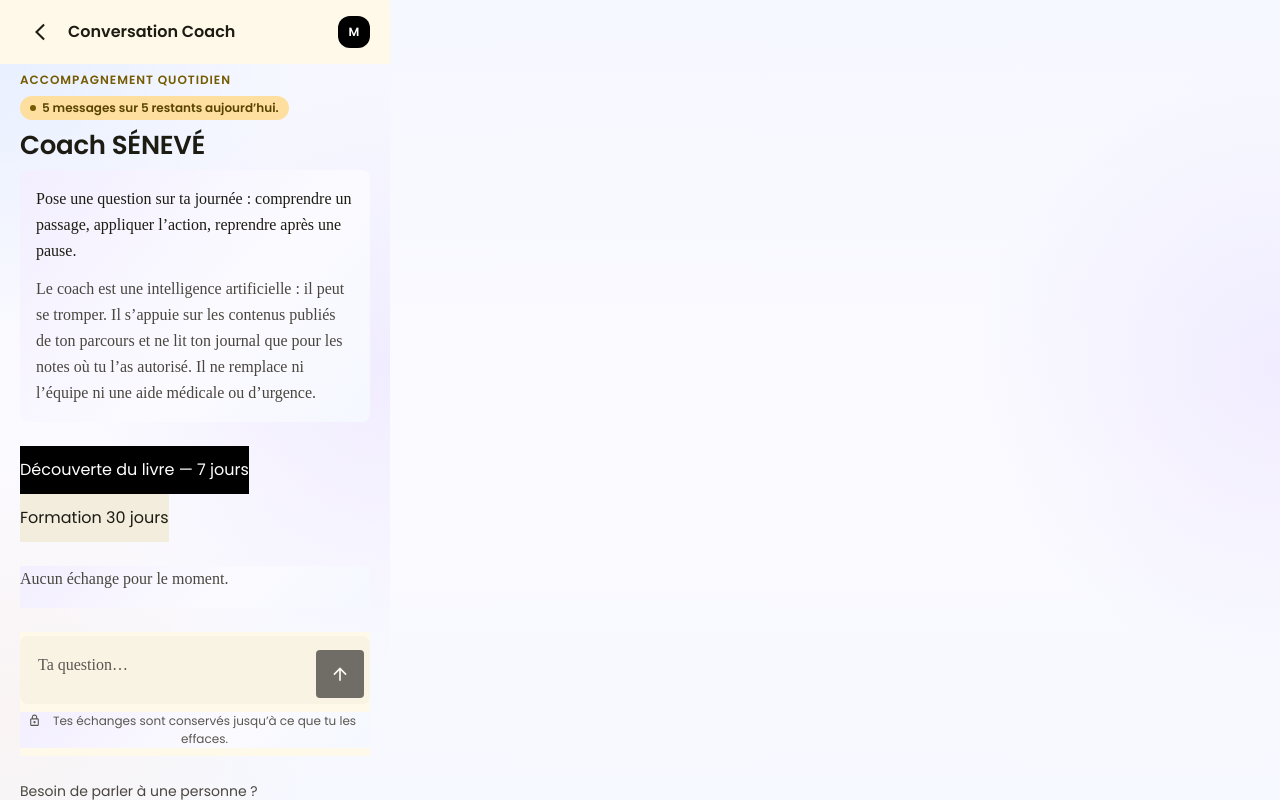
it: Coach : parcours choisi › suit le parcours ouvert depuis l’espace et permet d’en changer
The width and height of the screenshot is (1280, 800).
Type "Une question" into the text box with placeholder "Ta question…" at (167, 666), box [26,642,308,690]
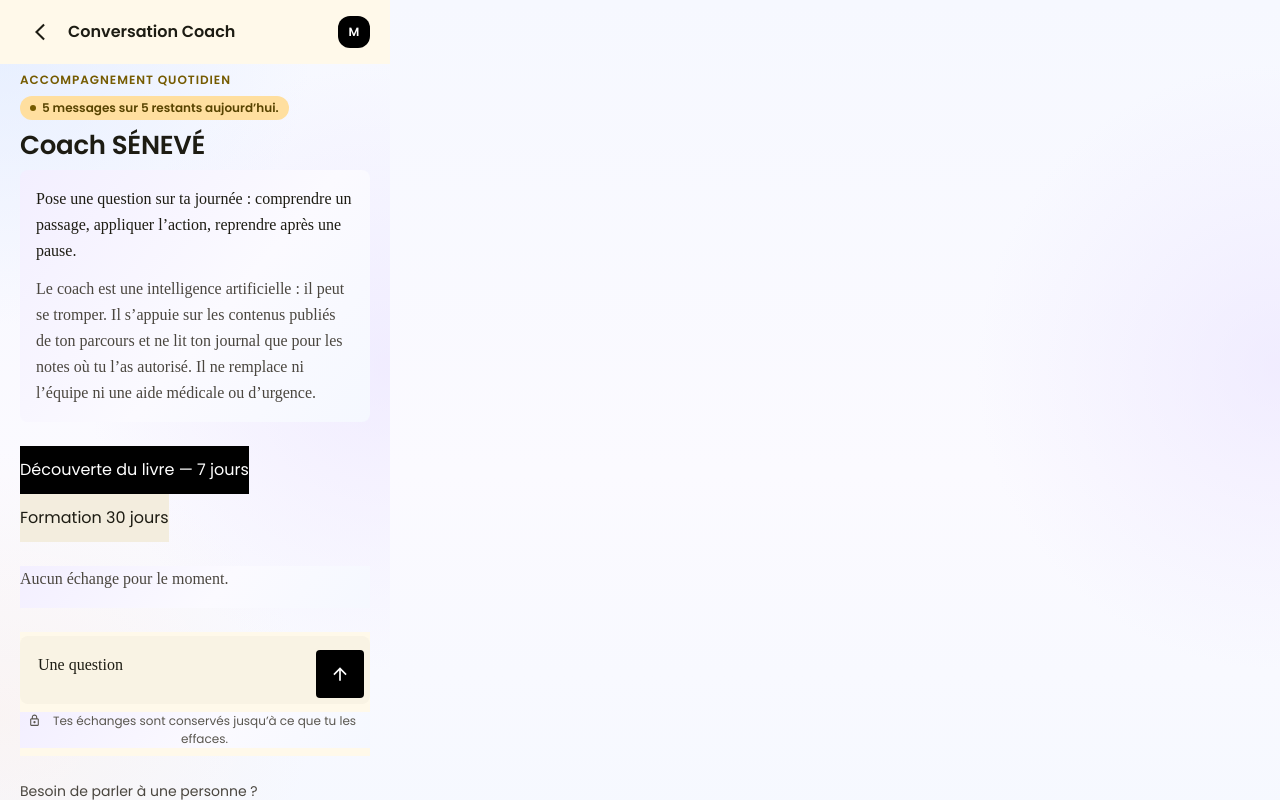
Click the button named "Envoyer" at (340, 674), box [316,650,364,698]
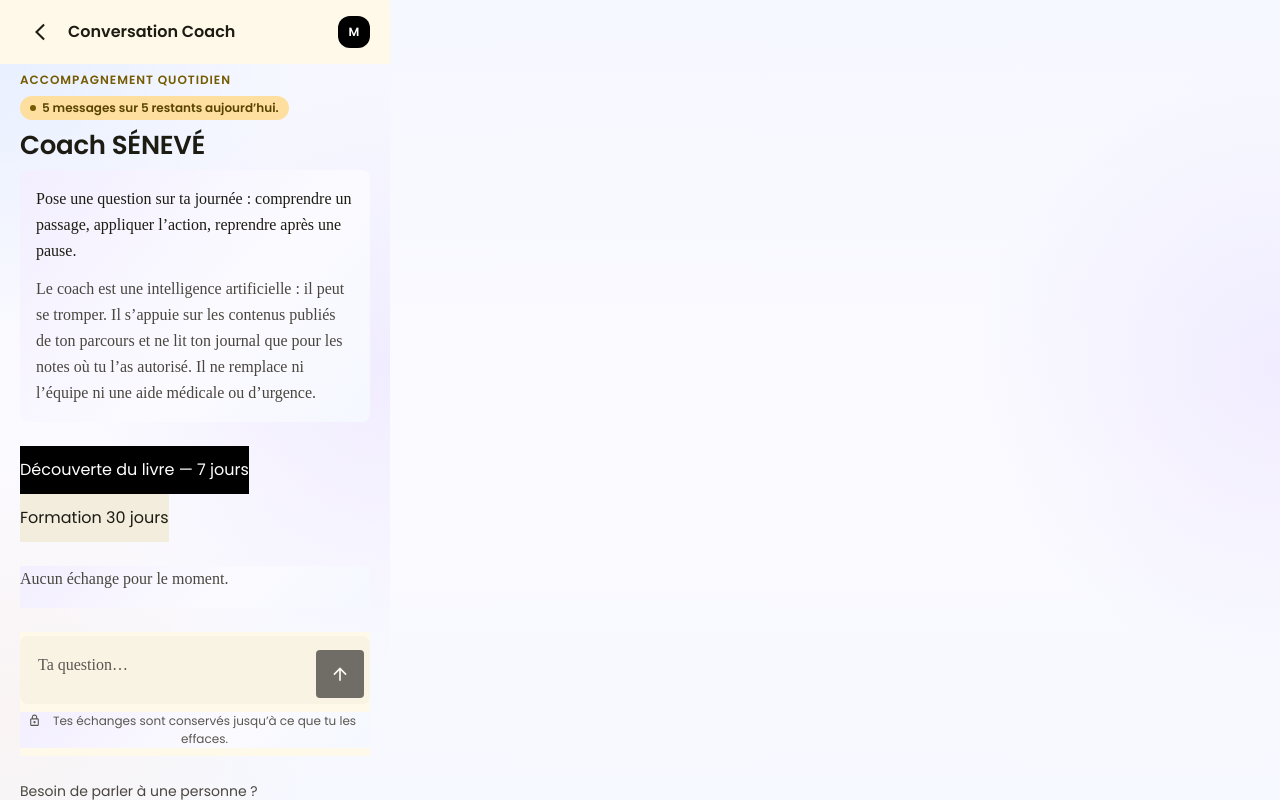
Click the tab "Formation 30 jours" at (94, 518), box [20,494,169,542]
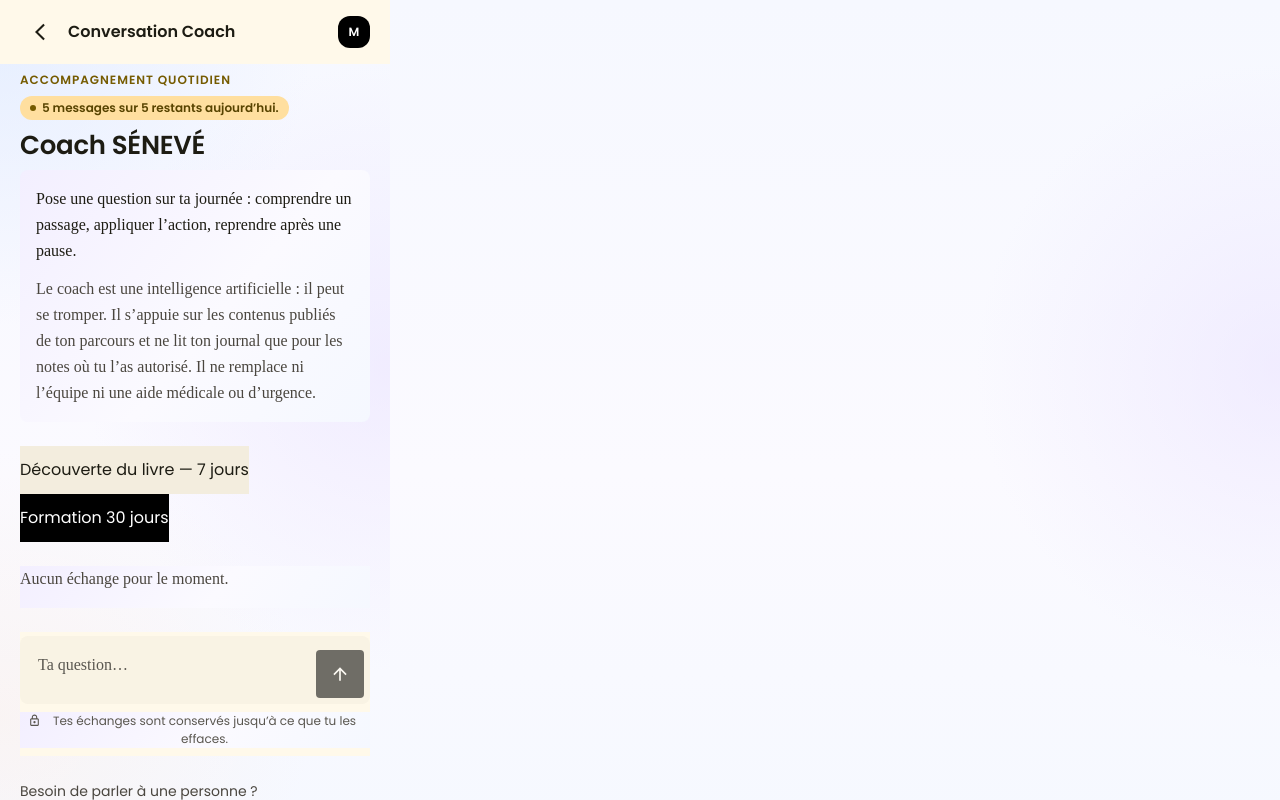
Expected: the tab "Formation 30 jours" is selected, [20,494,169,542]
